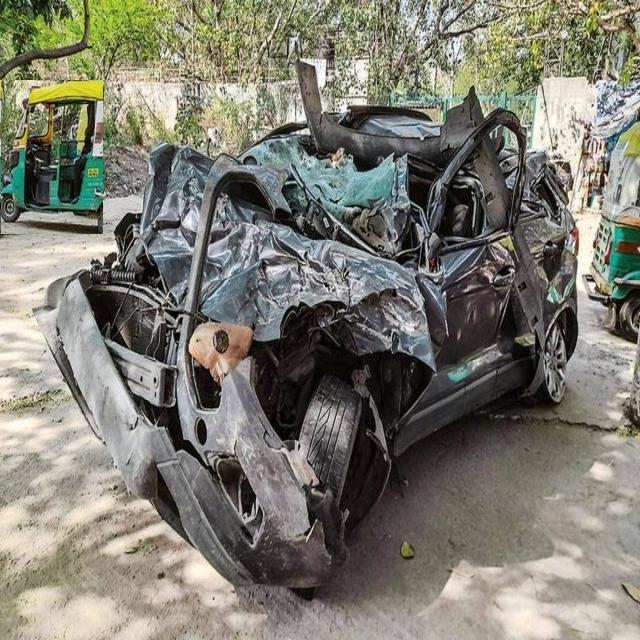accident: (36, 62, 579, 596)
autorickshaw: (1, 80, 102, 234)
